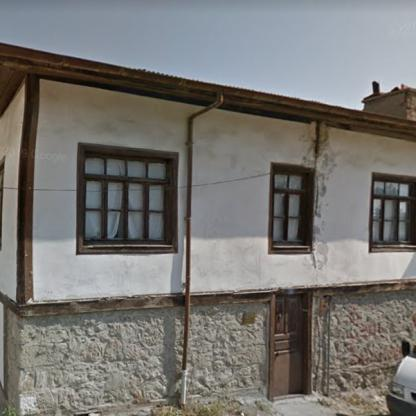door: (272, 297, 304, 396)
window: (82, 155, 167, 241), (372, 179, 414, 243), (273, 172, 304, 241)
